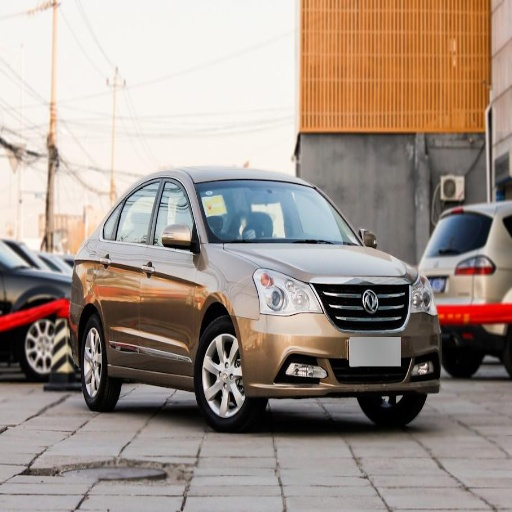front_bumper: (238, 276, 441, 397)
front_right_door: (140, 176, 200, 369)
front_right_light: (252, 267, 319, 314)
